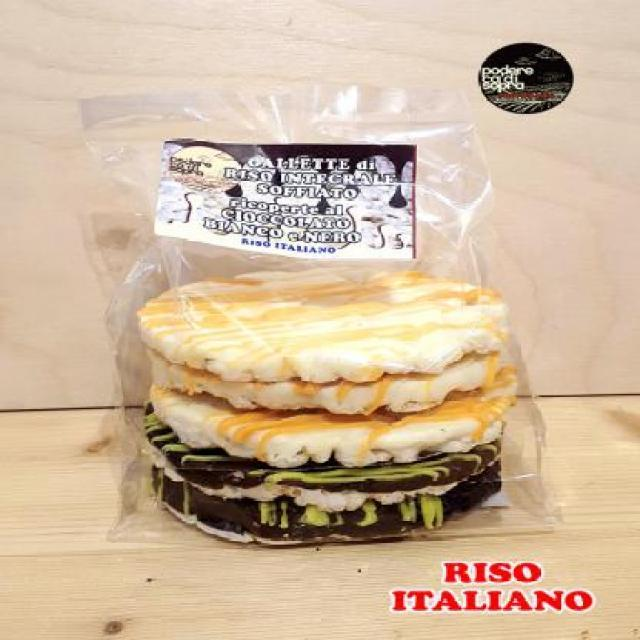Gallette di riso: (60, 76, 577, 556)
